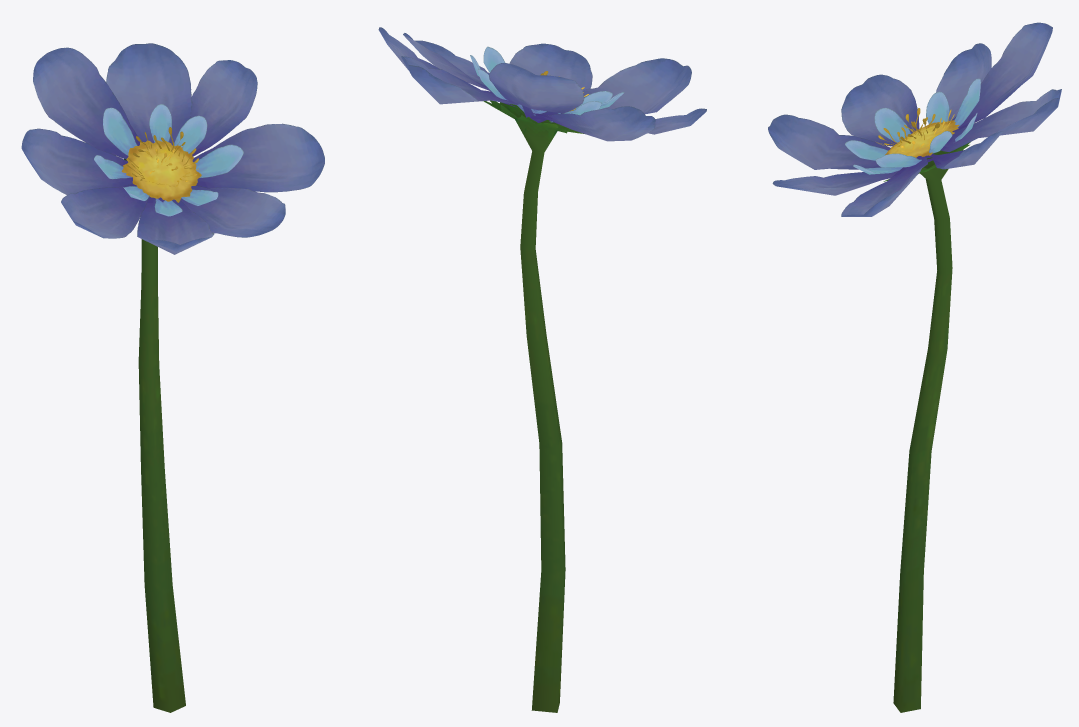
The model's file is Homeworld_General_Common_Thing_Prop_Irodori_MainFlower_11_Mid_Vo.fbx.
The picture shows the model from 3 angles, left to right: view 1: azimuth 30°, elevation 25°; view 2: azimuth 150°, elevation 25°; view 3: azimuth 270°, elevation 25°; orthographic projection. The views are drawn at different scales.
Visible parts, largest first — view 1: Homeworld_General_Common_Thing_Prop_Irodori_MainFlower_11_Vo; view 2: Homeworld_General_Common_Thing_Prop_Irodori_MainFlower_11_Vo; view 3: Homeworld_General_Common_Thing_Prop_Irodori_MainFlower_11_Vo.
Part boxes in pixels (x1,y1,x2,y2): Homeworld_General_Common_Thing_Prop_Irodori_MainFlower_11_Vo: (21, 43, 324, 712); Homeworld_General_Common_Thing_Prop_Irodori_MainFlower_11_Vo: (378, 27, 706, 712); Homeworld_General_Common_Thing_Prop_Irodori_MainFlower_11_Vo: (768, 22, 1061, 712).
Size of the model in its own units: 0.1588 by 0.3458 by 0.1482.
